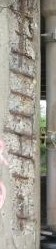Exposed reinforcement: (17, 1, 26, 69), (9, 67, 35, 80), (10, 6, 33, 20), (10, 88, 34, 101), (10, 48, 33, 60), (10, 129, 32, 140), (9, 109, 32, 119), (14, 29, 33, 41), (19, 193, 24, 232), (11, 151, 32, 160), (12, 172, 30, 180), (15, 212, 28, 221), (18, 135, 23, 156)
Spalling: (3, 1, 39, 236)
